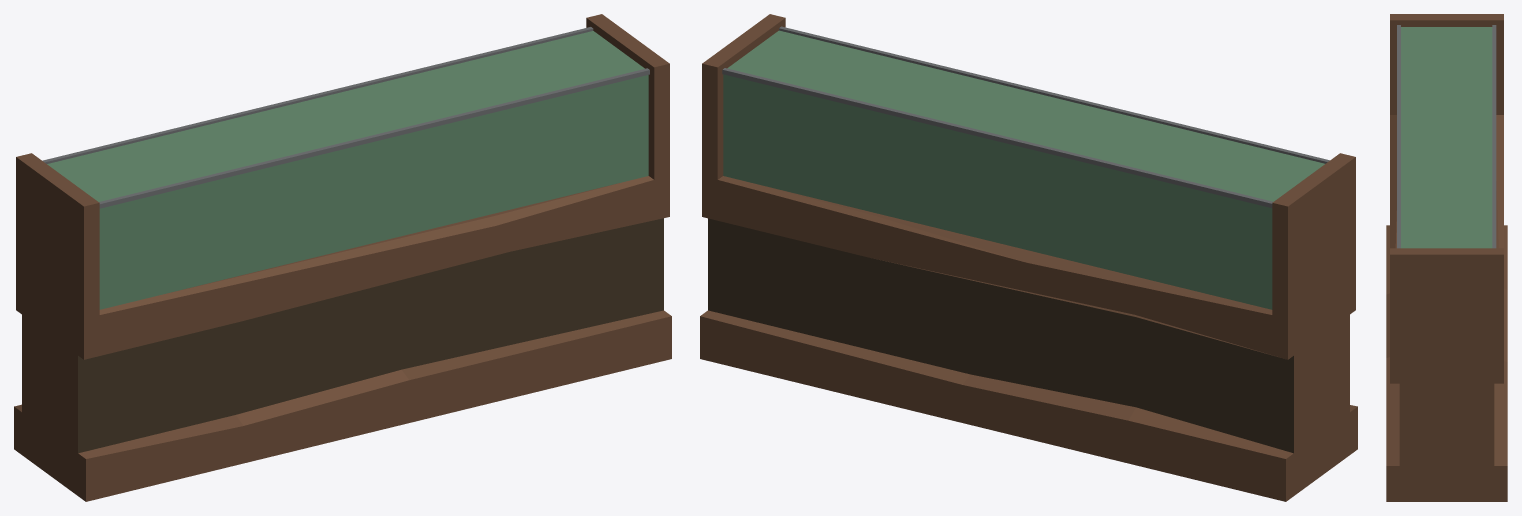
Rendered from Prop_DisplayCase_01.glb.
3 renders of one model, left to right at view 1: azimuth 30°, elevation 25°; view 2: azimuth 150°, elevation 25°; view 3: azimuth 270°, elevation 25°, orthographic. The views are drawn at different scales.
Visible parts, largest first — view 1: SM_Prop_DisplayCase_01, SM_Prop_DisplayCase_Glass_01, SM_Prop_DisplayCase_Glass_1_Broken; view 2: SM_Prop_DisplayCase_01, SM_Prop_DisplayCase_Glass_01; view 3: SM_Prop_DisplayCase_01, SM_Prop_DisplayCase_Glass_01.
Part boxes in pixels (bbox=[...]): SM_Prop_DisplayCase_01: bbox=[14, 14, 671, 501]; SM_Prop_DisplayCase_Glass_01: bbox=[47, 31, 648, 309]; SM_Prop_DisplayCase_Glass_1_Broken: bbox=[99, 102, 648, 309]; SM_Prop_DisplayCase_01: bbox=[700, 14, 1357, 501]; SM_Prop_DisplayCase_Glass_01: bbox=[723, 30, 1324, 309]; SM_Prop_DisplayCase_01: bbox=[1386, 14, 1507, 501]; SM_Prop_DisplayCase_Glass_01: bbox=[1401, 27, 1492, 248].
Bounding box in the file's own units: 2.59 × 1.24 × 0.5503.
Materials: 1 (1 with a texture image).
